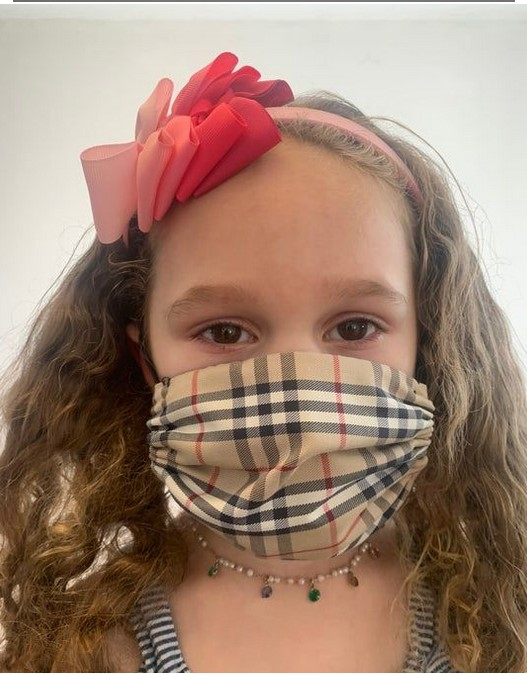face_with_mask: (112, 115, 457, 562)
